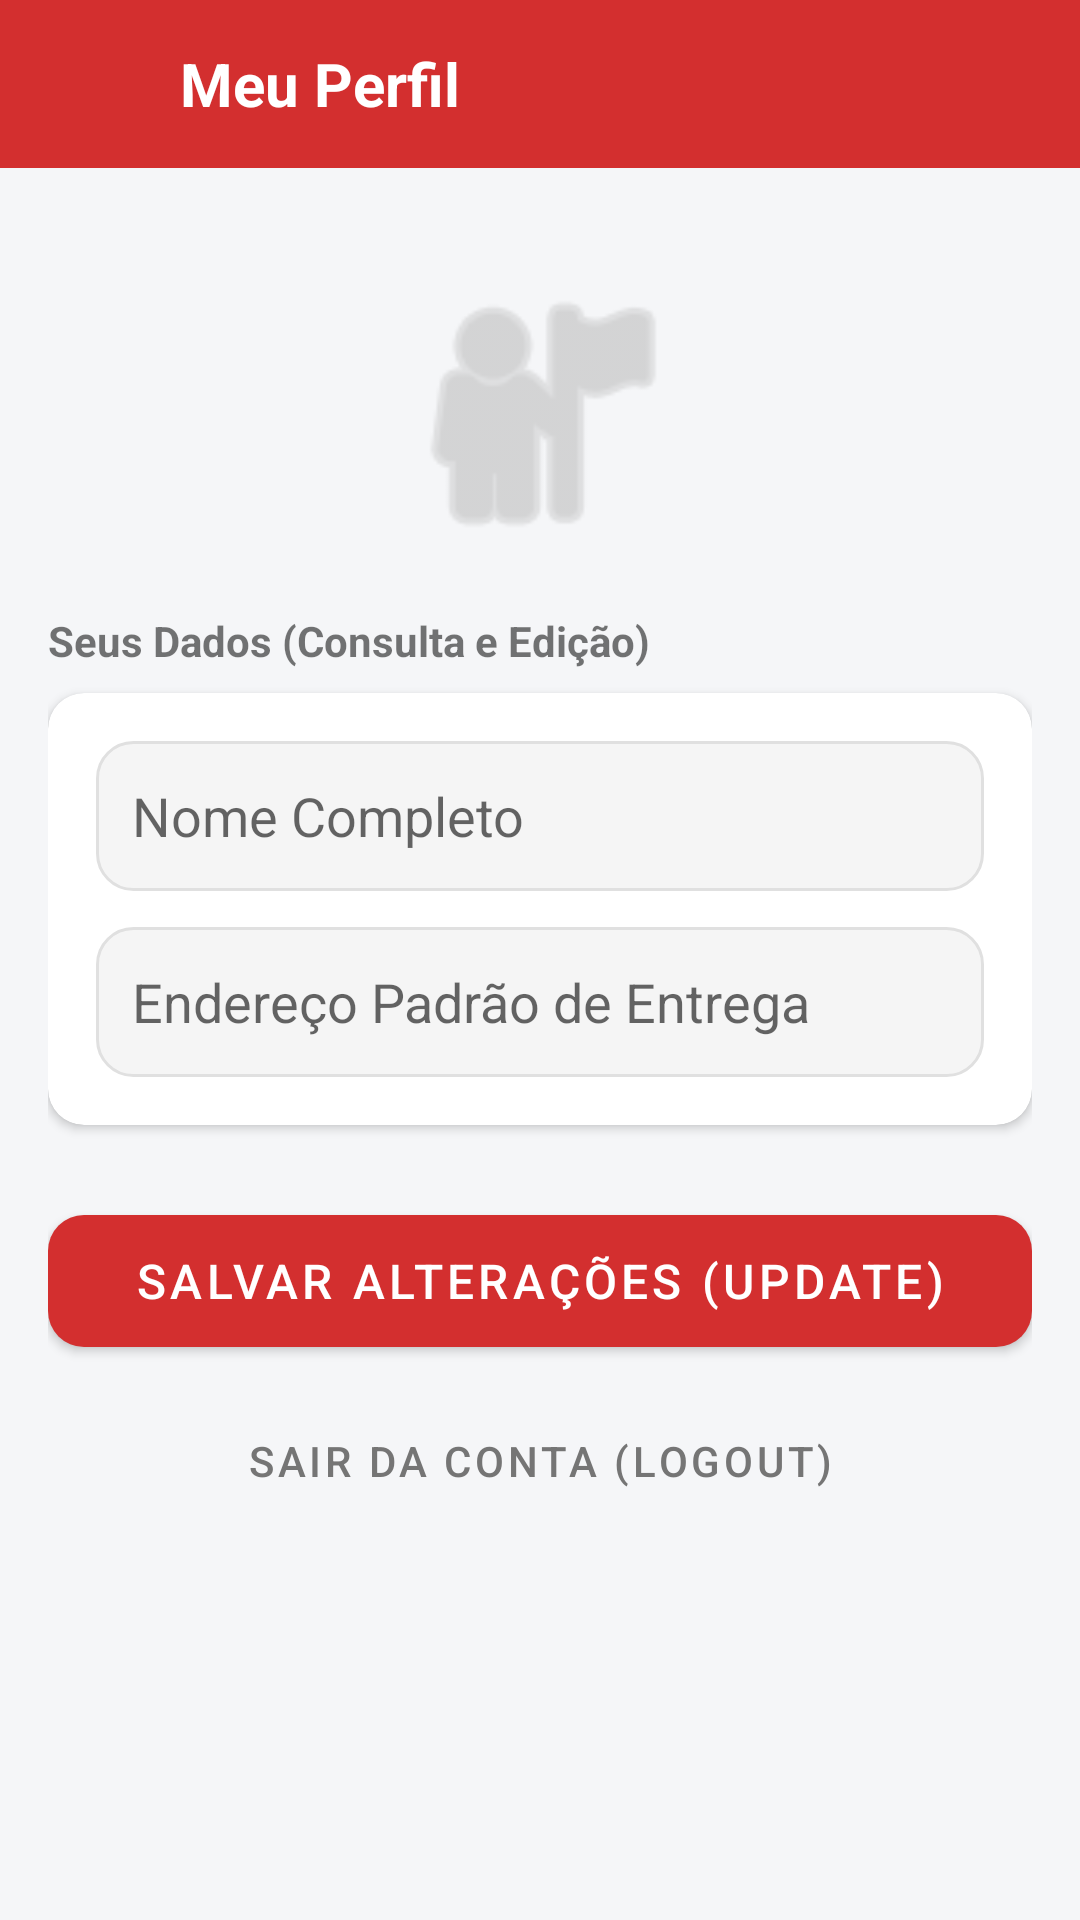

Where icons sit on this 1080 x 1920 app screen, as (x1, y1, x2, y2):
myplaces: (436, 307, 651, 521)
